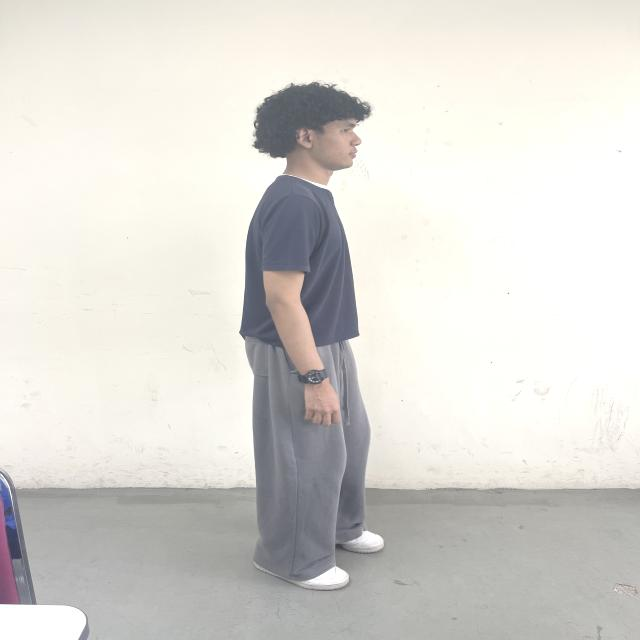person_without_labcoat: (240, 82, 384, 591)
